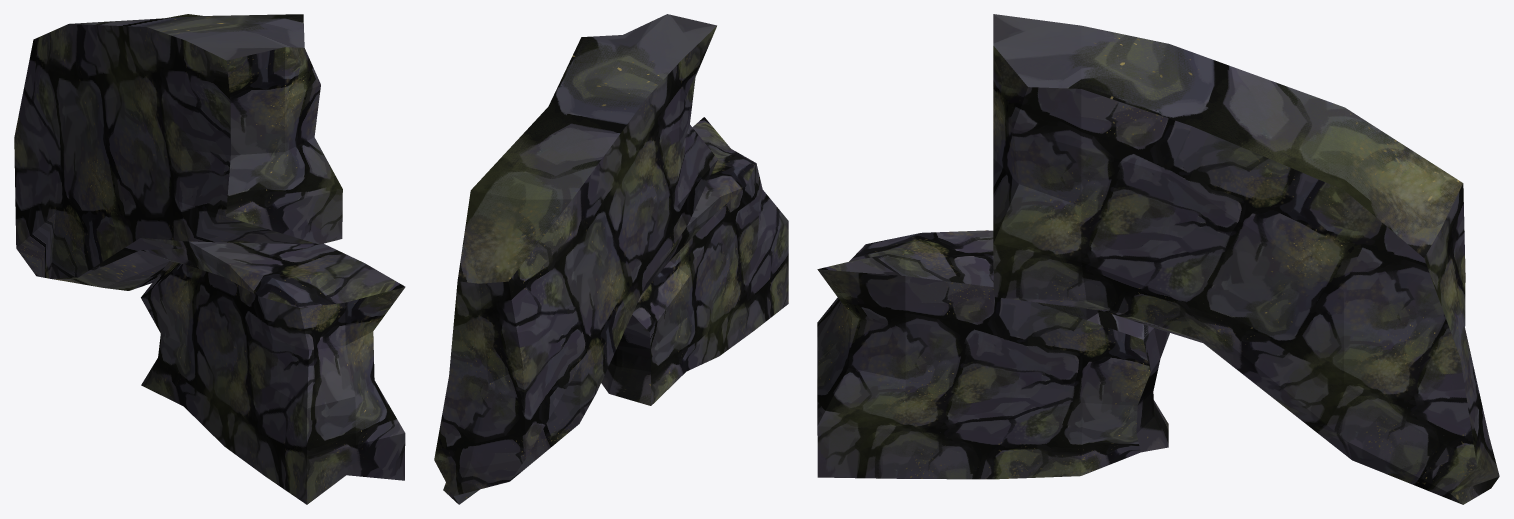
File: Ruins_03.fbx
The picture shows the model from 3 angles, left to right: view 1: azimuth 30°, elevation 25°; view 2: azimuth 150°, elevation 25°; view 3: azimuth 270°, elevation 25°; orthographic projection. The views are drawn at different scales.
Parts seen in each view (by area): view 1: Ruins_03; view 2: Ruins_03; view 3: Ruins_03.
Part boxes in pixels (x1,y1,x2,y2): Ruins_03: (14, 14, 405, 504); Ruins_03: (434, 14, 788, 504); Ruins_03: (817, 14, 1499, 504).
Bounding box in the file's own units: 0.1744 × 0.5139 × 0.7261.
1 material, 1 textured.
